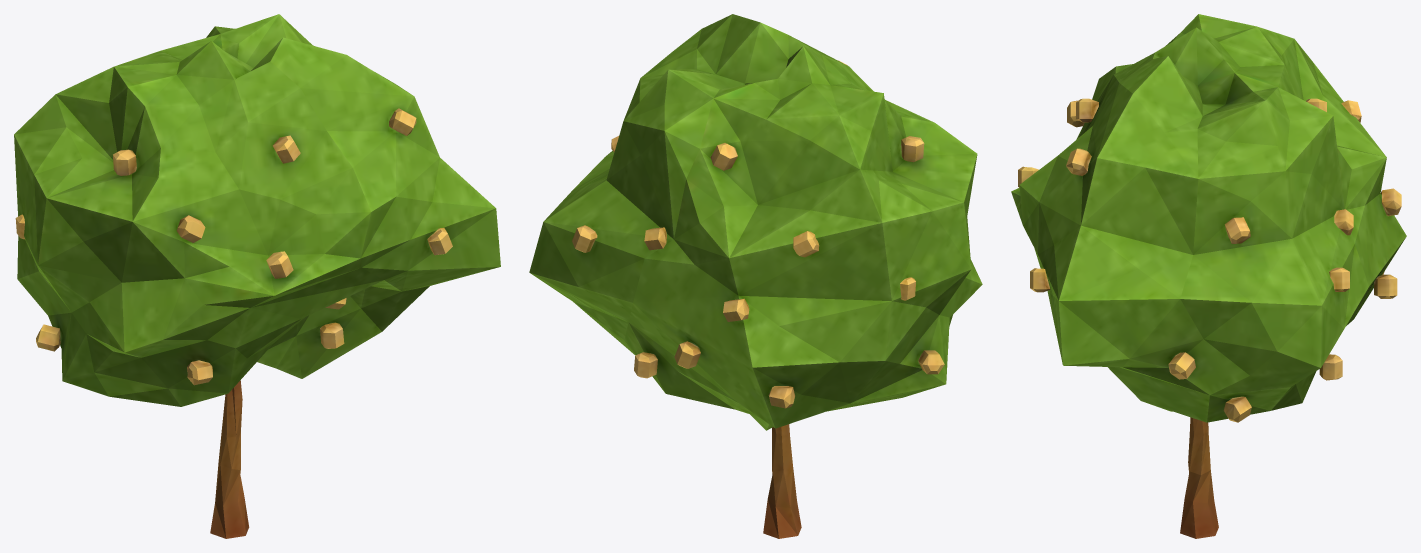
The model's file is orange.glb.
The picture shows the model from 3 angles, left to right: view 1: azimuth 30°, elevation 25°; view 2: azimuth 150°, elevation 25°; view 3: azimuth 270°, elevation 25°; orthographic projection.
Visible parts, largest first — view 1: OrangeTree; view 2: OrangeTree; view 3: OrangeTree.
Boxes of the visible parts, left/top/right/bottom form: OrangeTree: left=14, top=14, right=500, bottom=538; OrangeTree: left=529, top=14, right=982, bottom=538; OrangeTree: left=1011, top=14, right=1406, bottom=538.
Size of the model in its own units: 10.67 by 12.8 by 9.31.
1 material, 1 textured.
